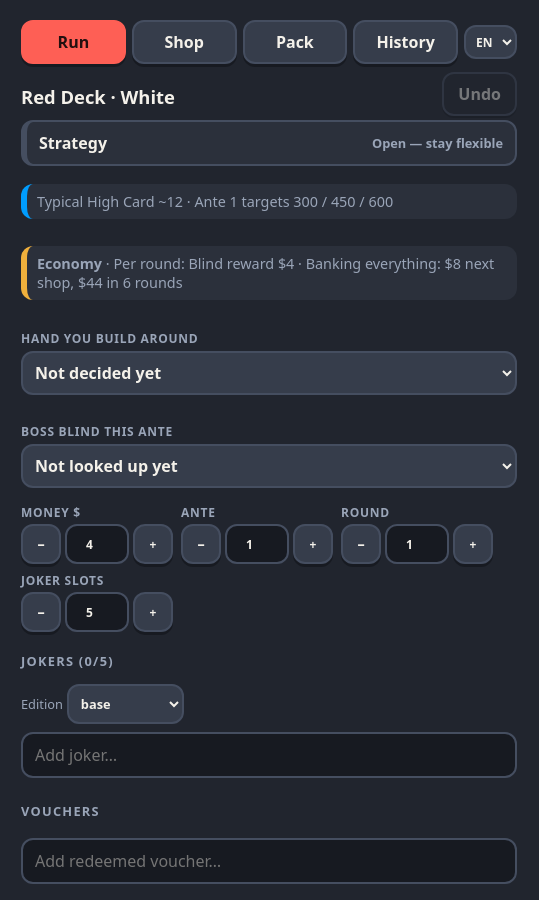
Scenario: recommends a shop joker after entering it
Click the button "Shop".
click(184, 42)  # box [132,20,237,64]
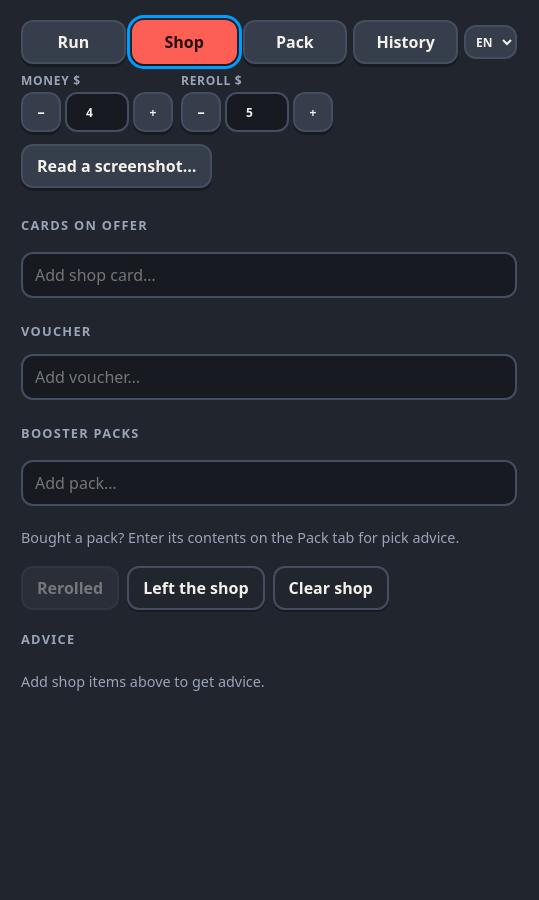
Type "blueprint" into the dropdown with placeholder "Add shop card…".
click(269, 275); type("blueprint")  # box [21,252,517,298]
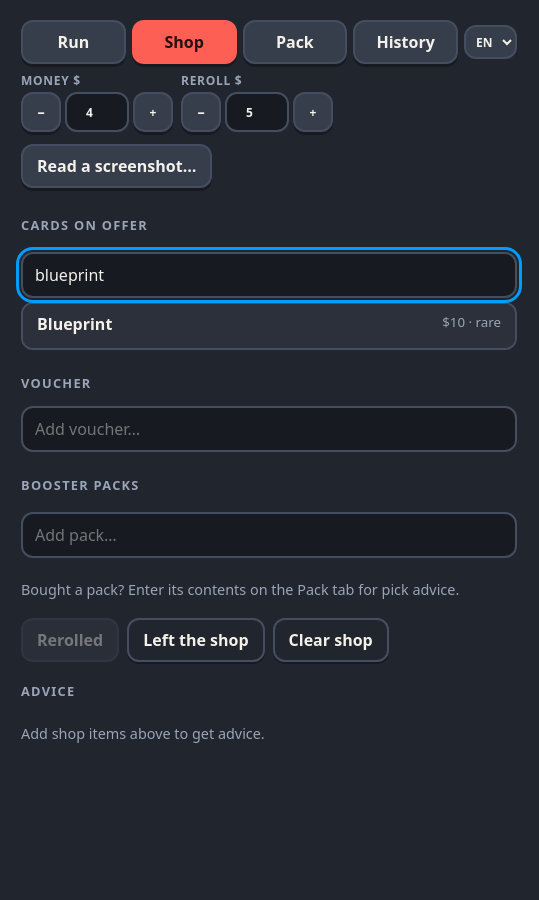
Click the button "Blueprint $10 · rare".
click(75, 324)  # box [23,304,515,348]
(page scrolled)
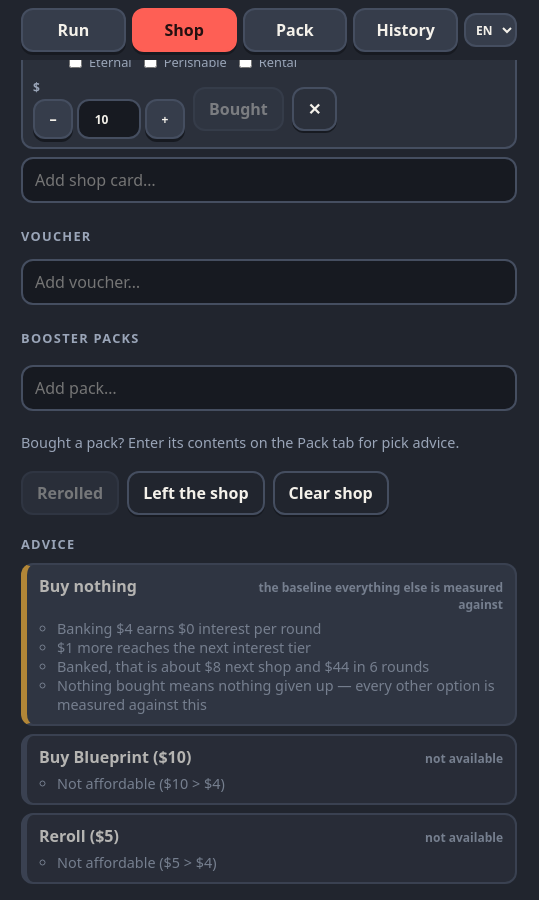
Check: the text "Buy Blueprint ($10)" is shown, box [39,746,191,768]
